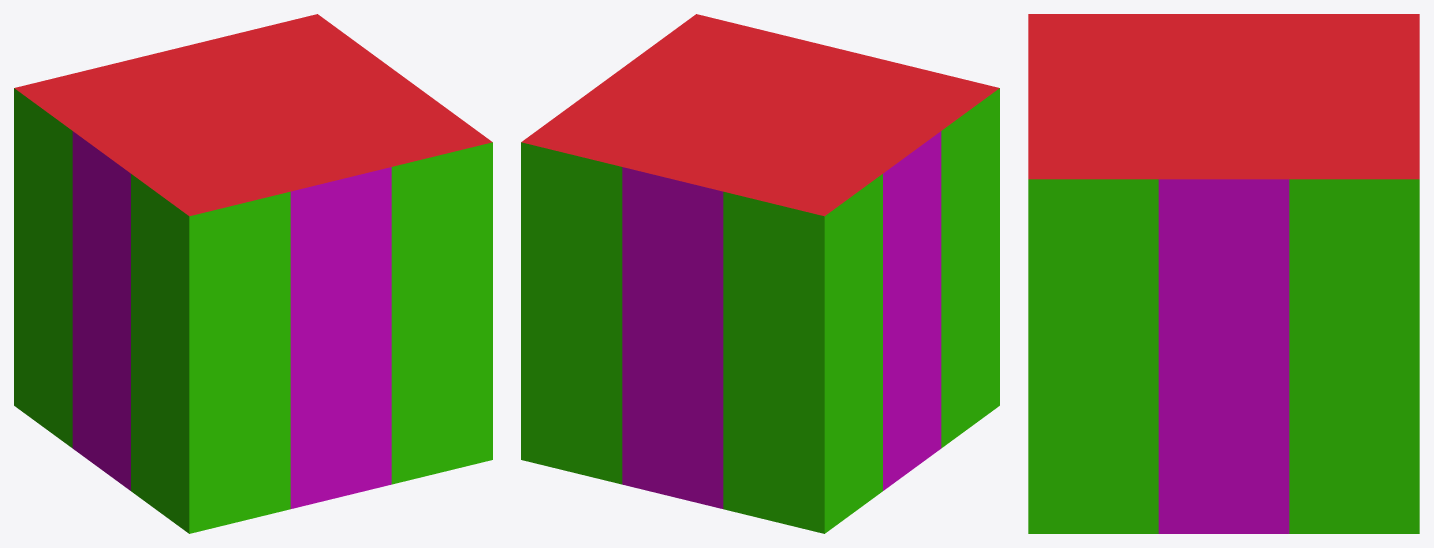
3 views of the same model, side by side, from view 1: azimuth 30°, elevation 25°; view 2: azimuth 150°, elevation 25°; view 3: azimuth 270°, elevation 25° (orthographic). The views are drawn at different scales.
Parts seen in each view (by area): view 1: Cube; view 2: Cube; view 3: Cube.
Boxes of the visible parts, <box> form: Cube: <box>14,14,492,533</box>; Cube: <box>521,14,999,533</box>; Cube: <box>1028,14,1419,533</box>.
Bounding box in the file's own units: 200 × 200 × 200.
